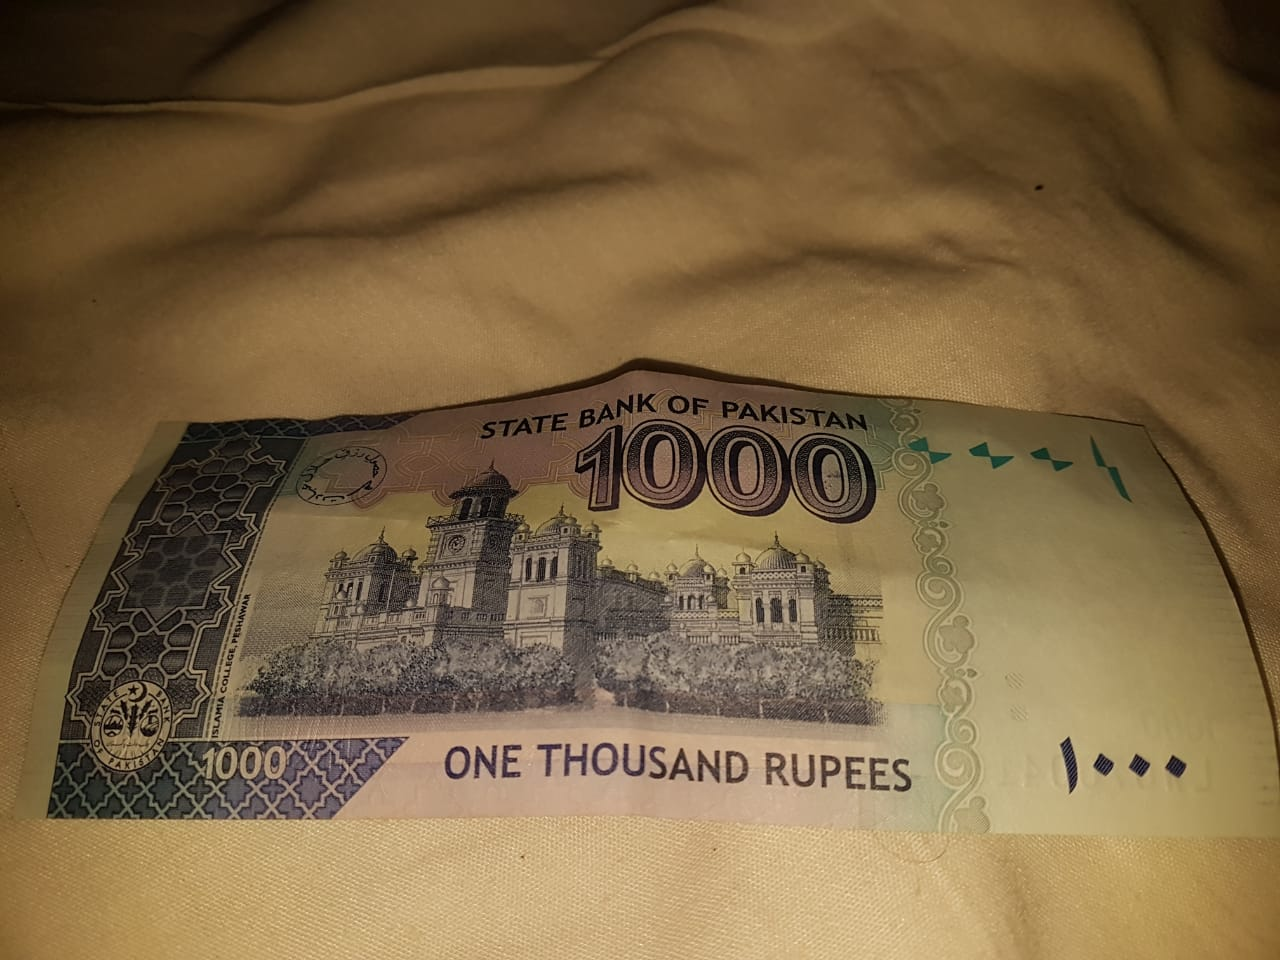1000 rupee: (37, 347, 1249, 923)
